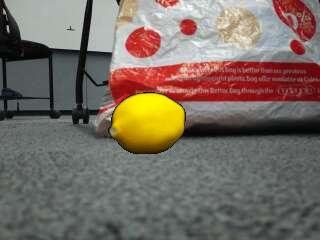lemon: (110, 93, 184, 153)
